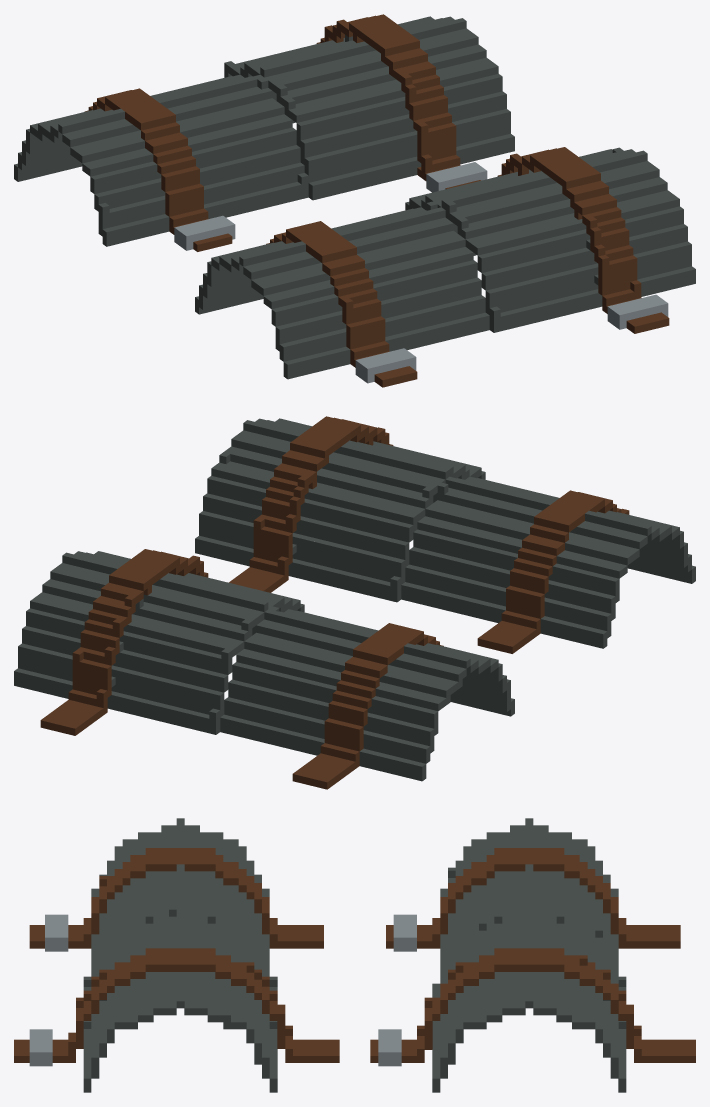
File: armguard_metal_sheets_bracer.glb
3 views of the same model, one above another, from view 1: azimuth 30°, elevation 25°; view 2: azimuth 150°, elevation 25°; view 3: azimuth 270°, elevation 25° (orthographic). The views are drawn at different scales.
Visible parts, largest first — view 1: armguard_metal_sheets_bracer:compound; view 2: armguard_metal_sheets_bracer:compound; view 3: armguard_metal_sheets_bracer:compound.
Boxes of the visible parts, x1,y1,x2,y2 form: armguard_metal_sheets_bracer:compound: [14, 14, 695, 387]; armguard_metal_sheets_bracer:compound: [14, 416, 695, 789]; armguard_metal_sheets_bracer:compound: [14, 818, 695, 1092].
Bounding box in the file's own units: 0.232 × 0.056 × 0.352.
